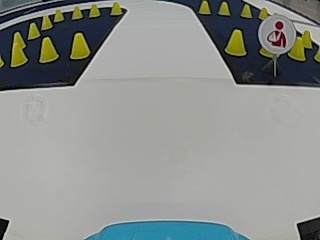cone: (224, 29, 246, 56), (69, 32, 90, 59), (10, 33, 27, 65), (38, 37, 58, 62), (289, 37, 305, 61), (28, 21, 41, 38), (109, 1, 122, 16), (198, 1, 211, 14), (41, 15, 53, 29), (71, 6, 83, 19), (218, 2, 230, 15), (240, 4, 252, 17), (89, 3, 100, 17), (53, 8, 64, 21), (258, 7, 269, 18)
patient: (265, 12, 294, 52)
